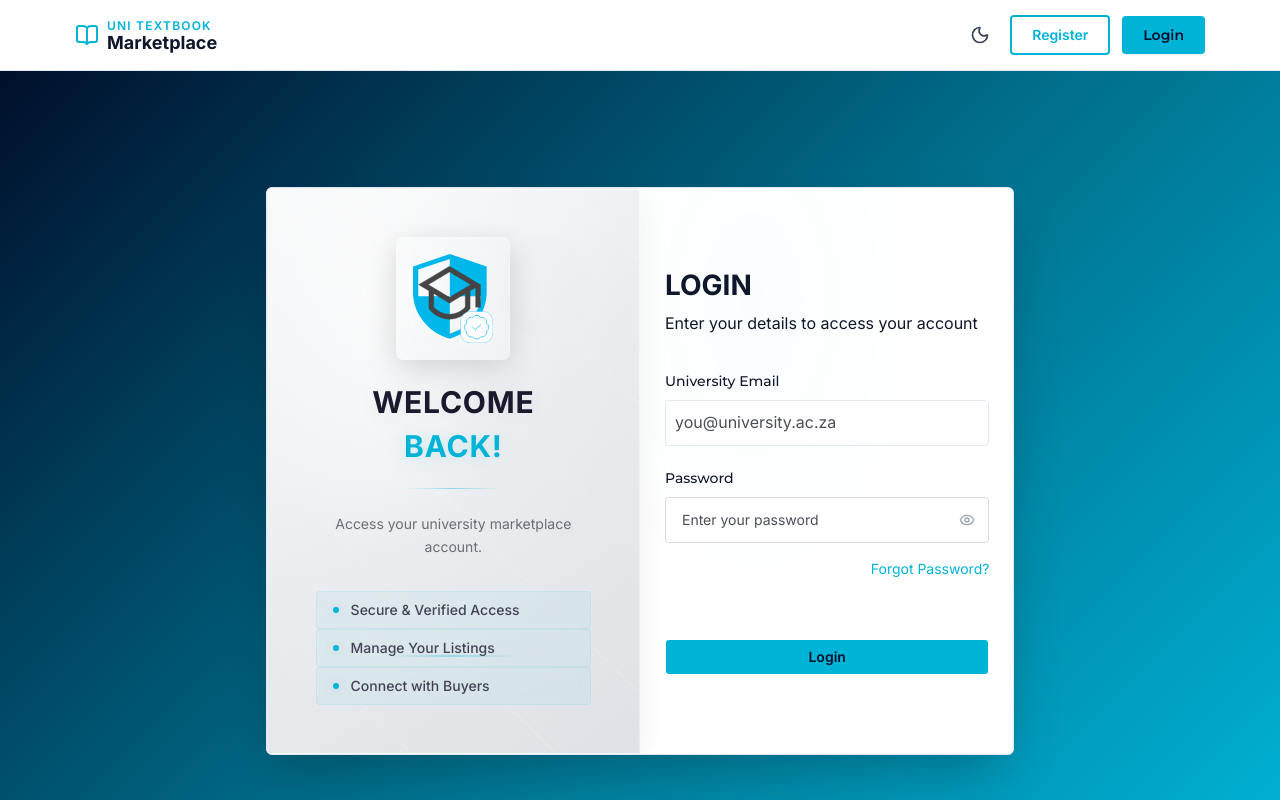
Login › shows a client-side validation error for a short password
Type "student1@tuks.co.za" into the field with placeholder "you@university.ac.za" at [827, 423], box [665,400,989,446]
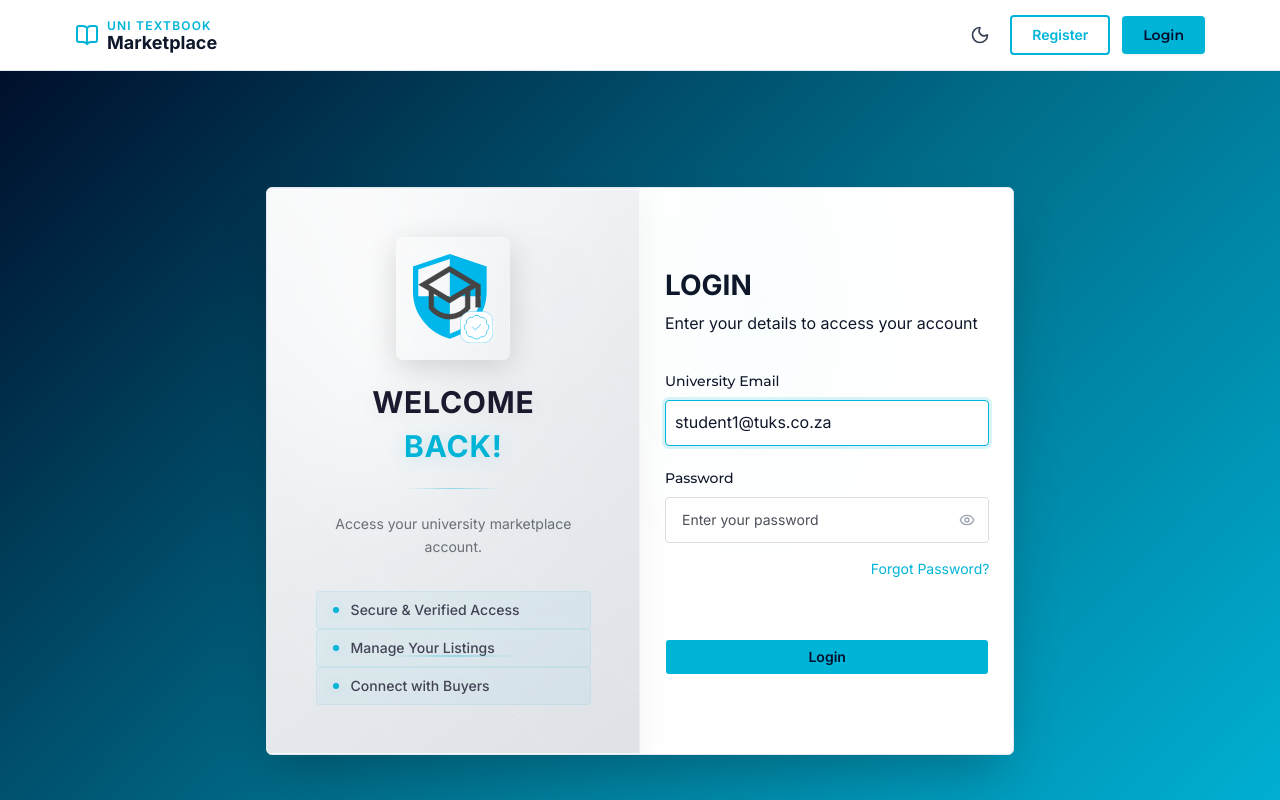
Type "short" into the password field labelled "Password" at [827, 520], box [665,497,989,543]
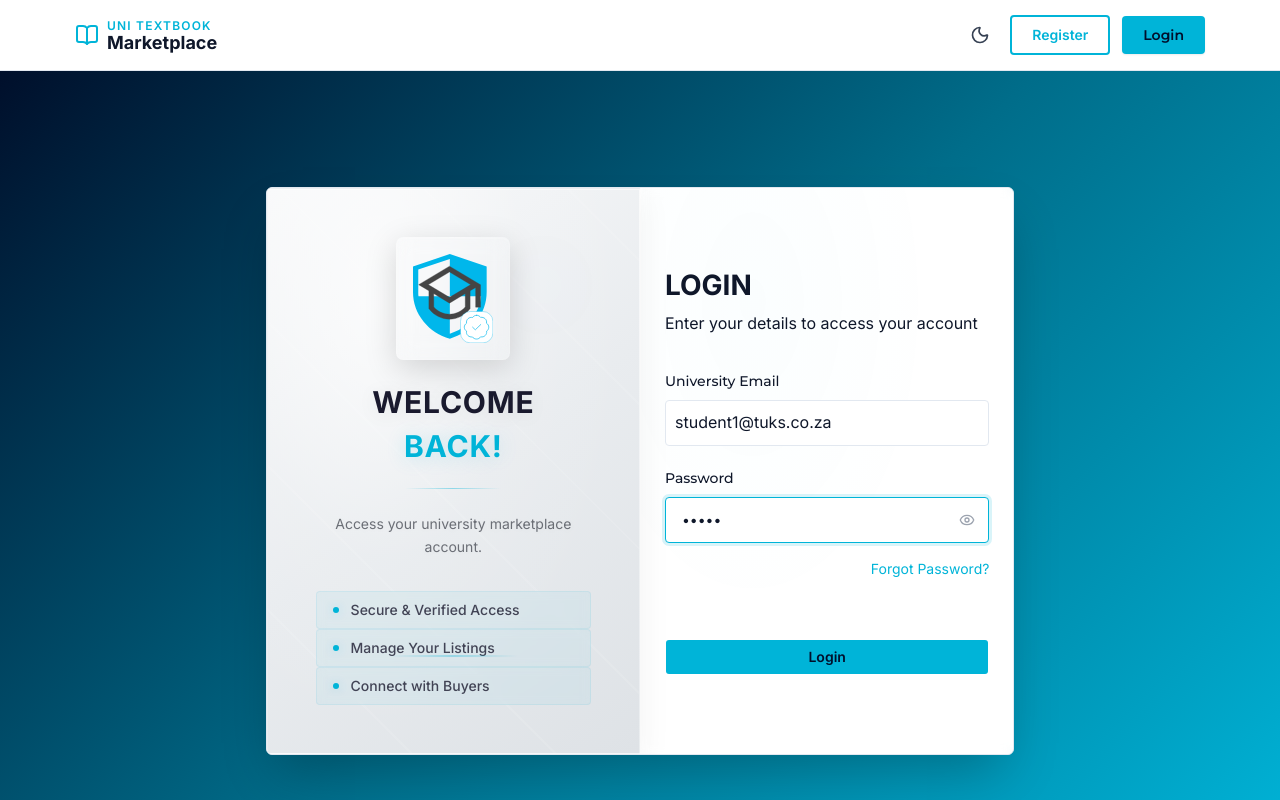
Click the button "Login" at [827, 657], box [665,639,989,675]
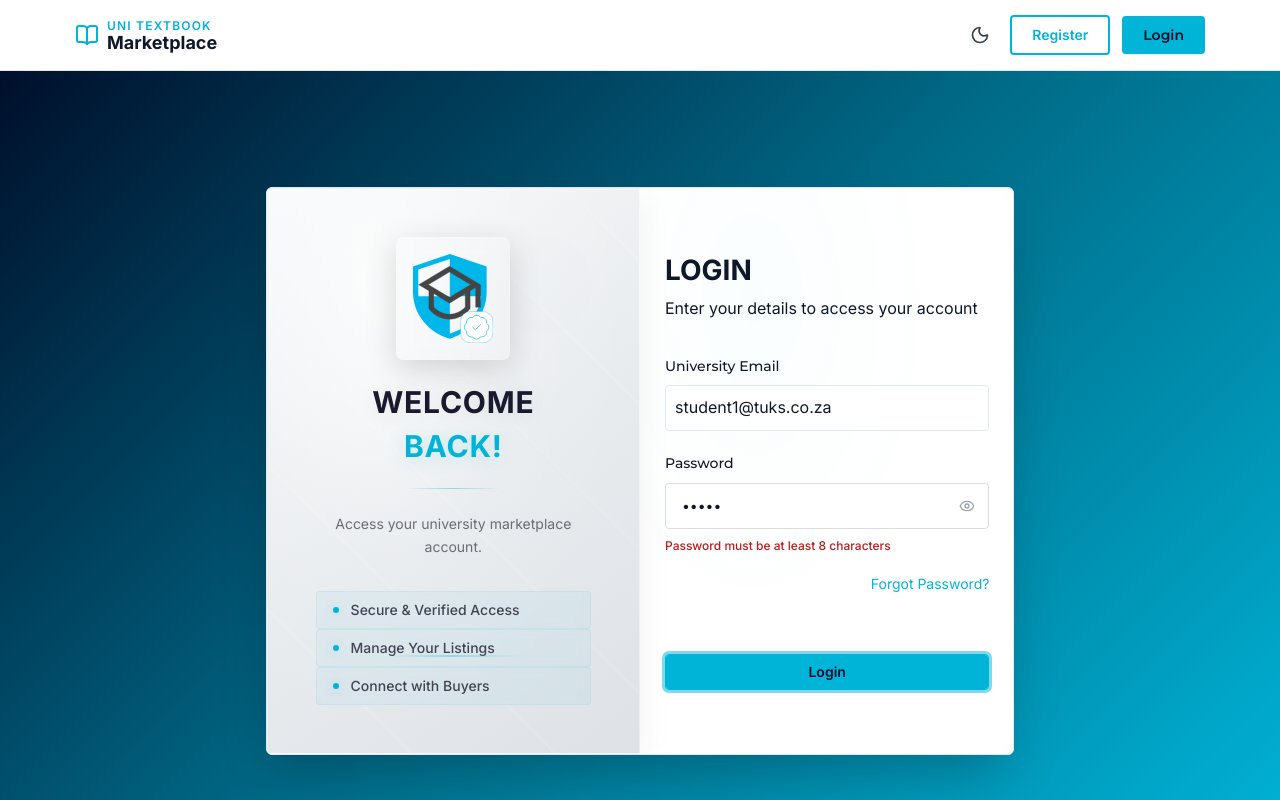
Check: the text "Password must be at least 8 characters" is shown, box [665,538,891,553]
